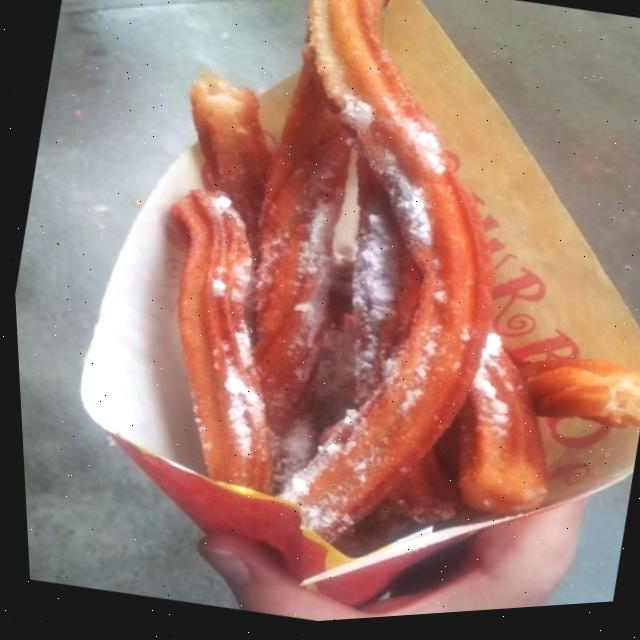炸货点心: (27, 0, 640, 639)
